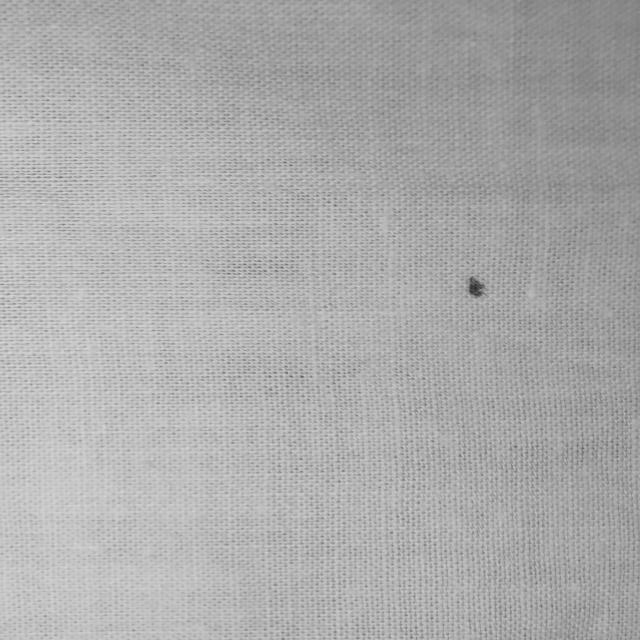Stain: (469, 276, 486, 297)
